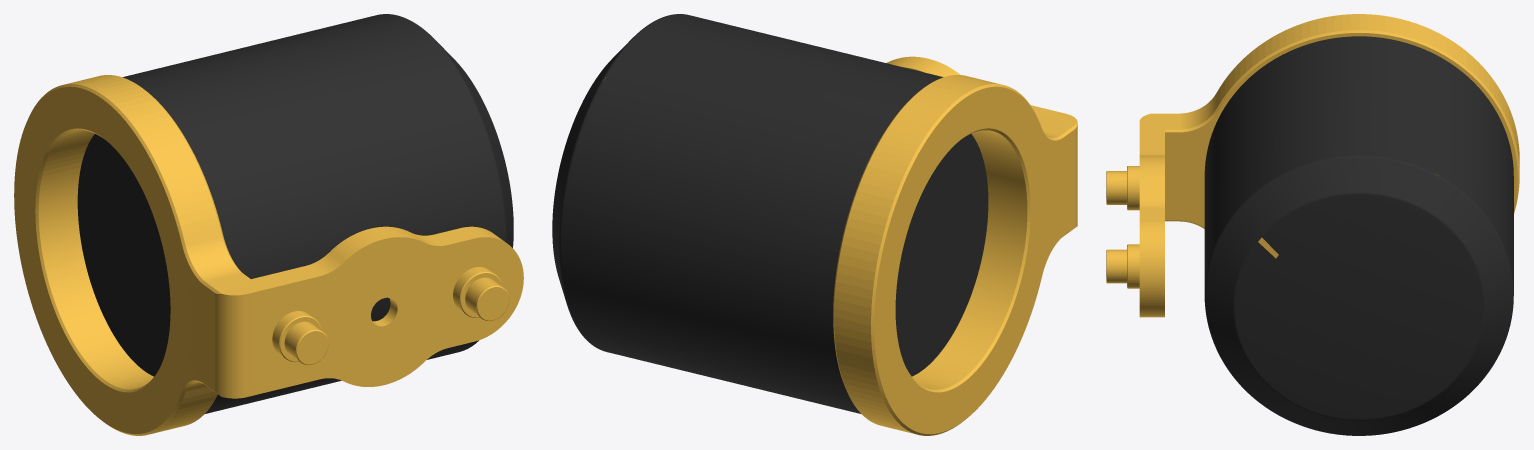
File: armr6.obj
The picture shows the model from 3 angles, left to right: view 1: azimuth 30°, elevation 25°; view 2: azimuth 150°, elevation 25°; view 3: azimuth 270°, elevation 25°; orthographic projection. The views are drawn at different scales.
Visible parts, largest first — view 1: armr6-mesh; view 2: armr6-mesh; view 3: armr6-mesh.
Part boxes in pixels (x1=…): armr6-mesh: x1=14, y1=14, x2=523, y2=435; armr6-mesh: x1=552, y1=14, x2=1077, y2=435; armr6-mesh: x1=1106, y1=14, x2=1519, y2=435.
Size of the model in its own units: 0.0843 by 0.076 by 0.0979.
Materials: 1 (1 with a texture image).
